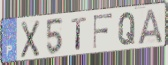5: (45, 16, 64, 57)
A: (137, 8, 165, 46)
F: (92, 12, 114, 51)
Q: (118, 11, 137, 47)
T: (70, 16, 88, 51)
X: (20, 19, 41, 60)
